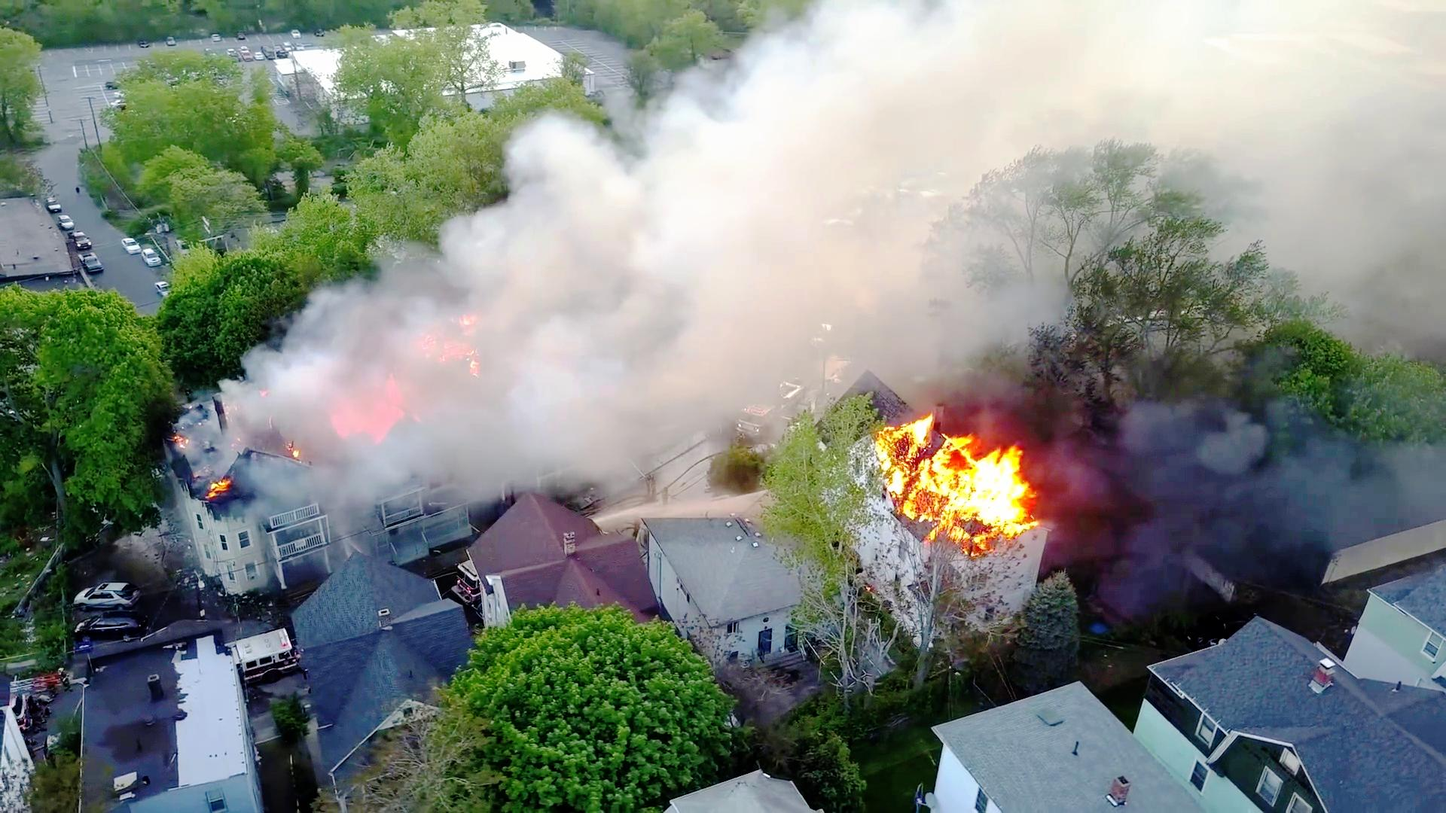fire: (854, 411, 1043, 541)
